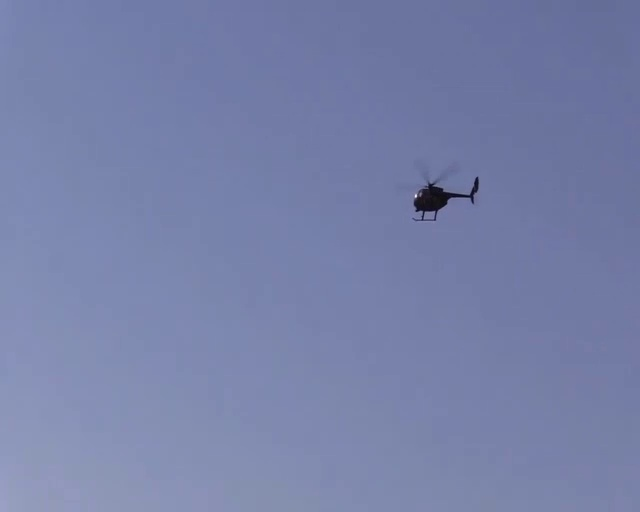HELICOPTER: (400, 156, 480, 222)
